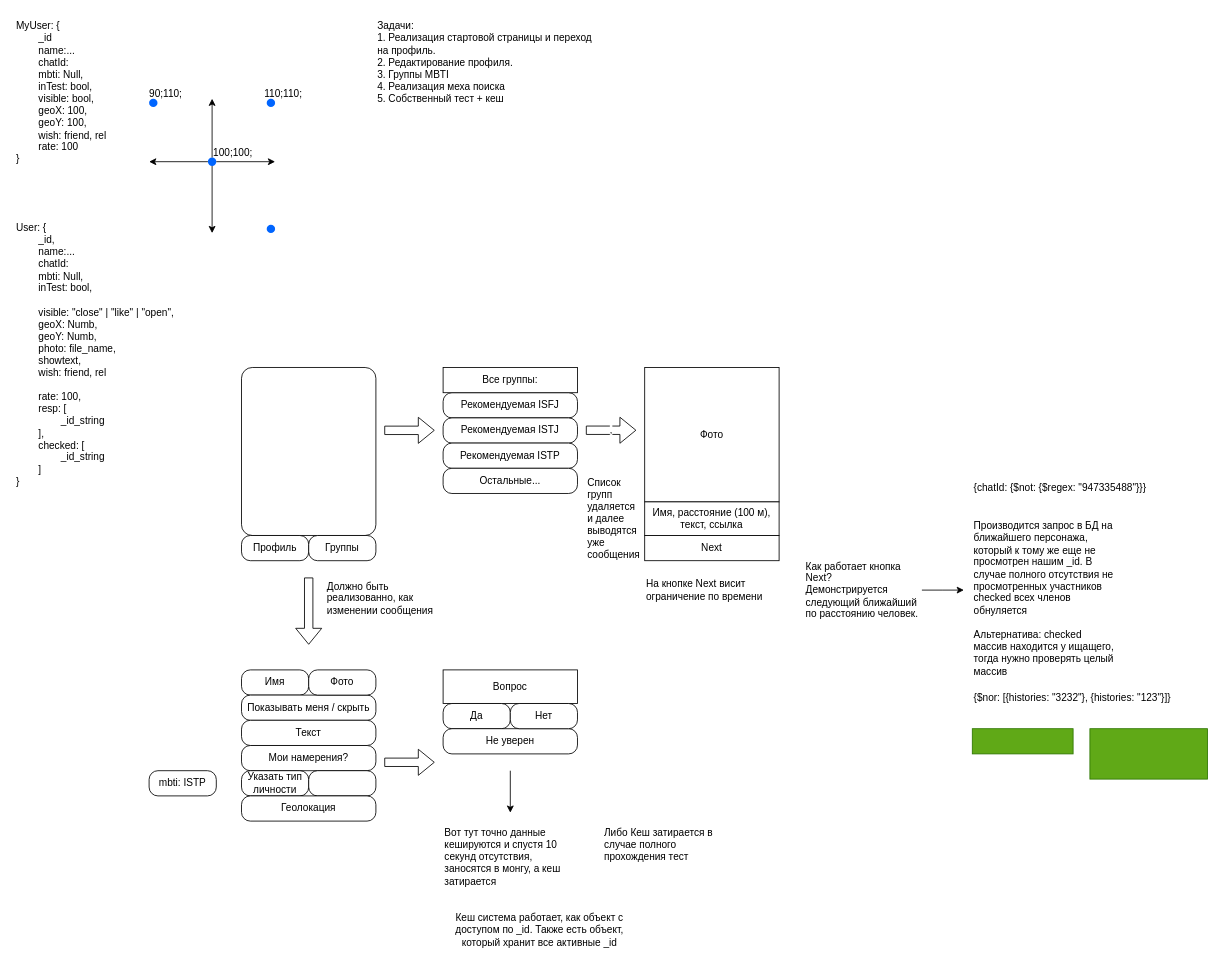
The diagram is 1222 pixels wide and 969 high, and some of its shapes have lost their labels. Here are the shapes that lost their labels. From the top down, the centre of each, then its label:
At point 308,451: "Вступительная информация. Что это, как используется.".
At point 1022,741: "Больше поиска, меньше обновлений".
At point 1148,753: "Пока отбрасываем кеширование и используем ресурсы машины".
At point 342,783: "Пройти тест".
